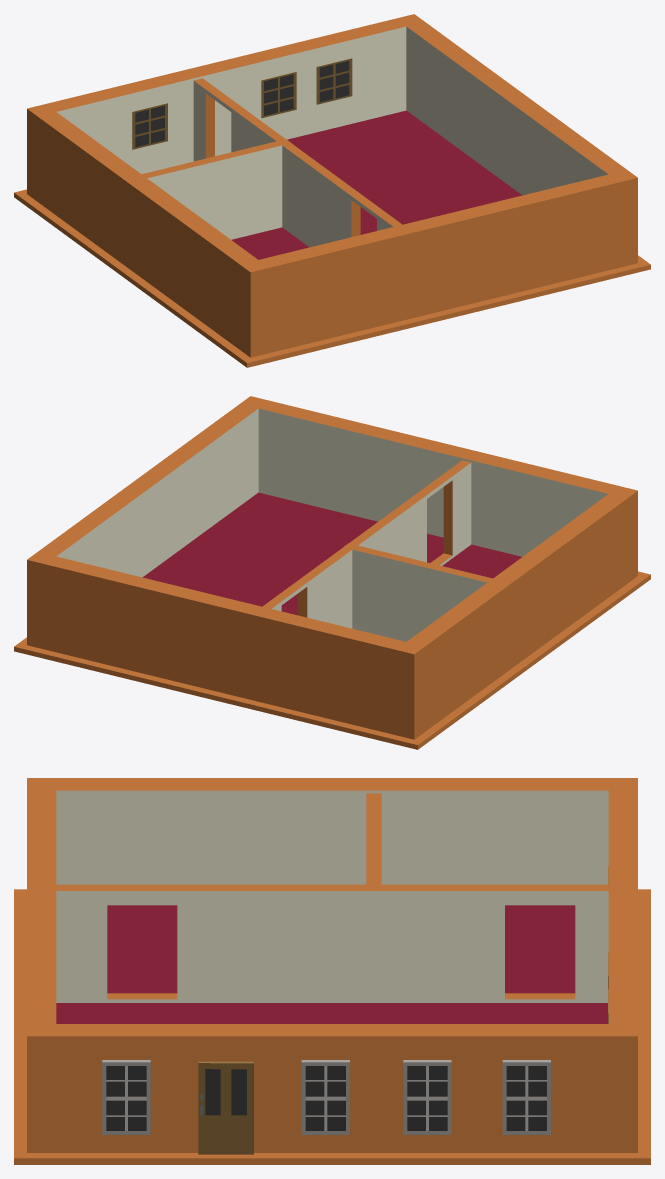
File: Interior.fbx
3 views of the same model, one above another, from view 1: azimuth 30°, elevation 25°; view 2: azimuth 150°, elevation 25°; view 3: azimuth 270°, elevation 25° (orthographic). The views are drawn at different scales.
Parts seen in each view (by area): view 1: polySurface113, polySurface110, polySurface58, polySurface114, polySurface112, Window1, Window2, Window; view 2: polySurface113, polySurface110, polySurface58, polySurface114, polySurface112; view 3: polySurface113, polySurface114, polySurface112, polySurface58, polySurface67, polySurface51, polySurface59, polySurface111, polySurface115, polySurface110.
Part boxes in pixels (x1,y1,x2,y2): polySurface113: (27,14,637,357); polySurface110: (142,139,290,239); polySurface58: (14,189,650,367); polySurface114: (282,140,402,247); polySurface112: (193,78,285,161); Window1: (316,58,352,104); Window2: (132,103,167,149); Window: (261,72,296,118); polySurface113: (27,396,637,739); polySurface110: (343,543,492,641); polySurface58: (14,571,650,749); polySurface114: (348,460,471,565); polySurface112: (262,547,352,628); polySurface113: (27,778,637,1152); polySurface114: (56,884,366,1002); polySurface112: (381,884,608,1002); polySurface58: (14,889,650,1164); polySurface67: (198,1061,253,1154); polySurface51: (502,1060,550,1134); polySurface59: (403,1060,451,1134); polySurface111: (102,1060,150,1134); polySurface115: (301,1060,349,1134); polySurface110: (366,793,381,1002).
Size of the model in its own units: 22.87 by 4.88 by 22.87.
